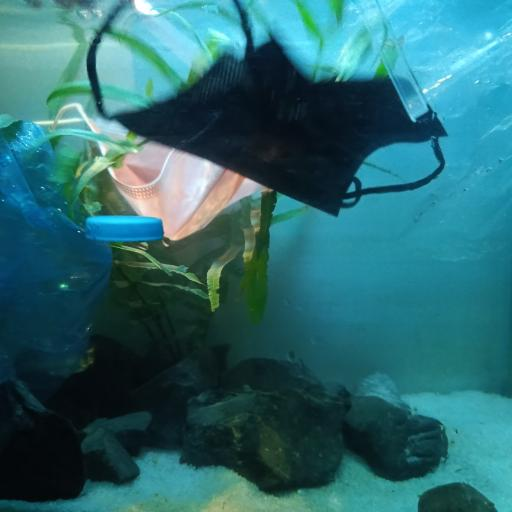bottle_cap: (84, 216, 164, 245)
mask: (87, 0, 447, 215), (107, 126, 284, 245)
plastic_bag: (337, 0, 512, 256), (0, 117, 117, 400)
plastic_straw: (357, 0, 428, 121)
